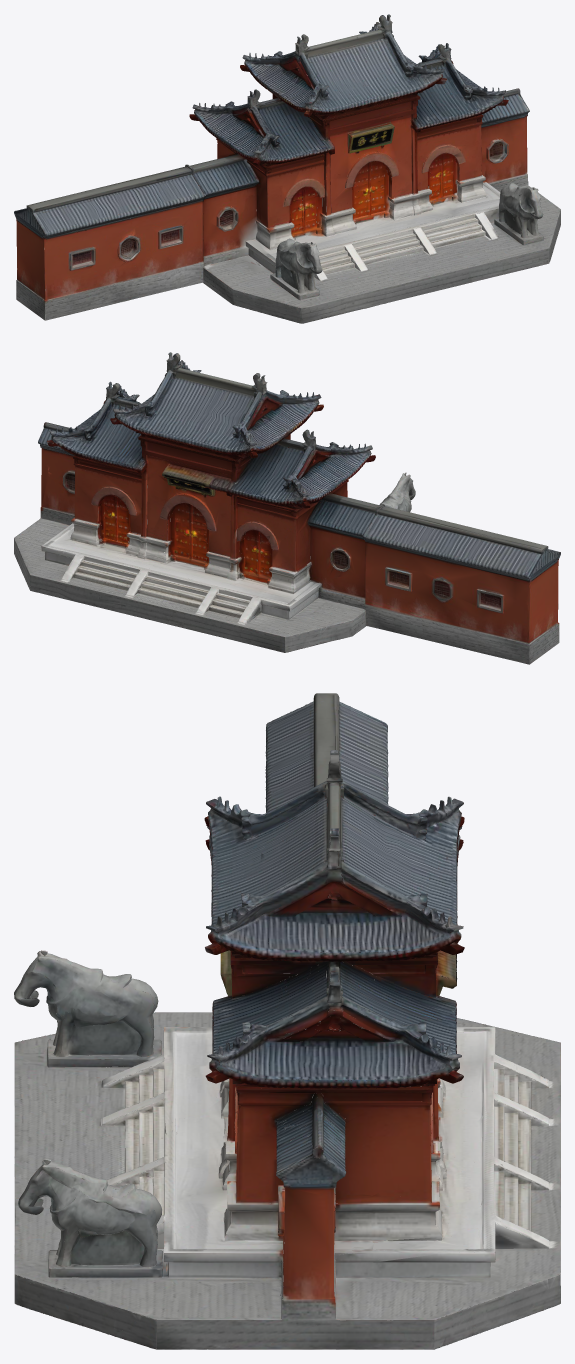
Rendered from baimasi.glb.
3 renders of one model, top to bottom at view 1: azimuth 30°, elevation 25°; view 2: azimuth 150°, elevation 25°; view 3: azimuth 270°, elevation 25°, orthographic. The views are drawn at different scales.
Parts seen in each view (by area): view 1: node_0; view 2: node_0; view 3: node_0.
Boxes of the visible parts, x1,y1,x2,y2 form: node_0: (14,14,560,323); node_0: (14,352,560,664); node_0: (14,693,560,1349).
Bounding box in the file's own units: 60.01 × 24.37 × 30.35.
1 material, 1 textured.
